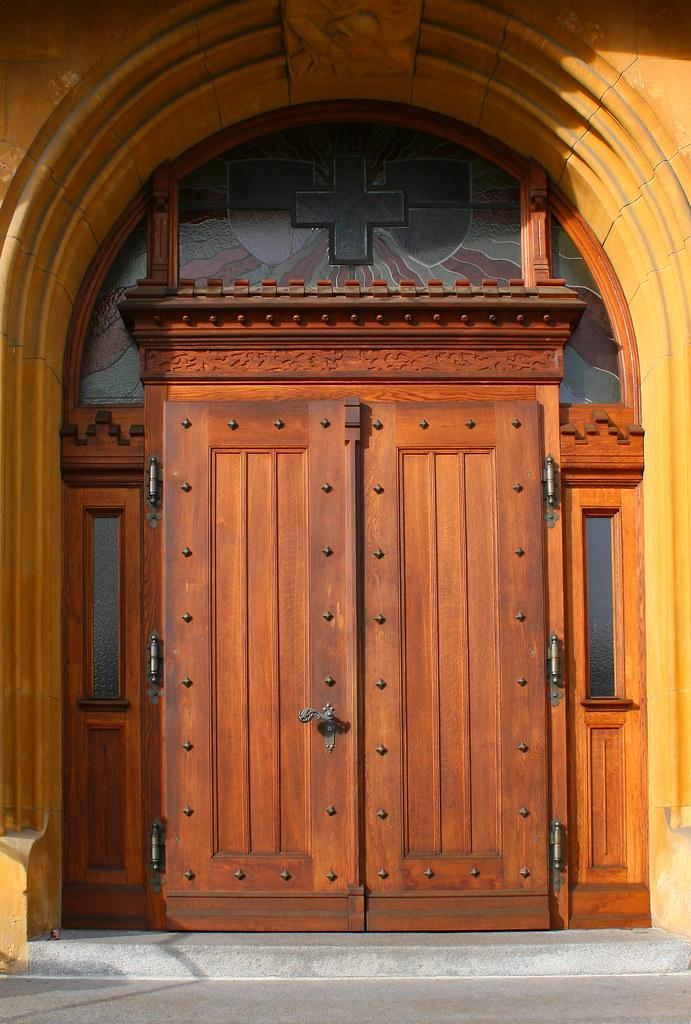door: (148, 381, 557, 934)
